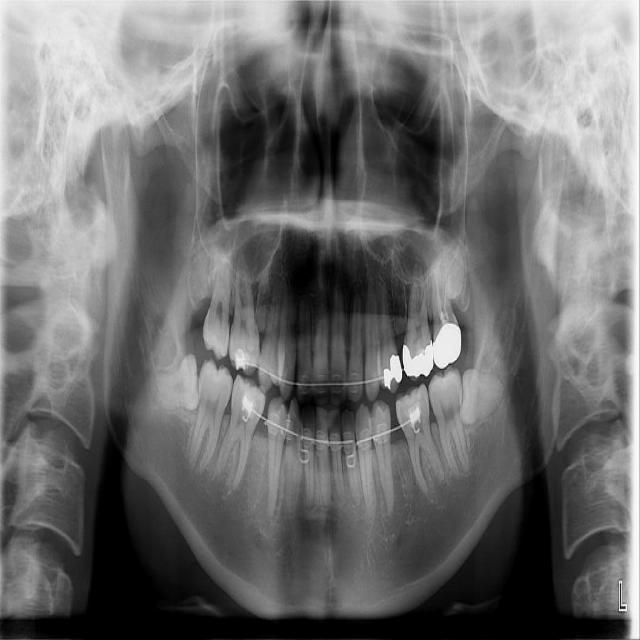Crown: (433, 322, 462, 369)
Filling: (398, 342, 435, 375), (382, 351, 403, 391)
impacted tooth: (146, 356, 201, 408), (460, 368, 504, 424)
